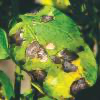Potato leaf early blight: (6, 5, 99, 98)
